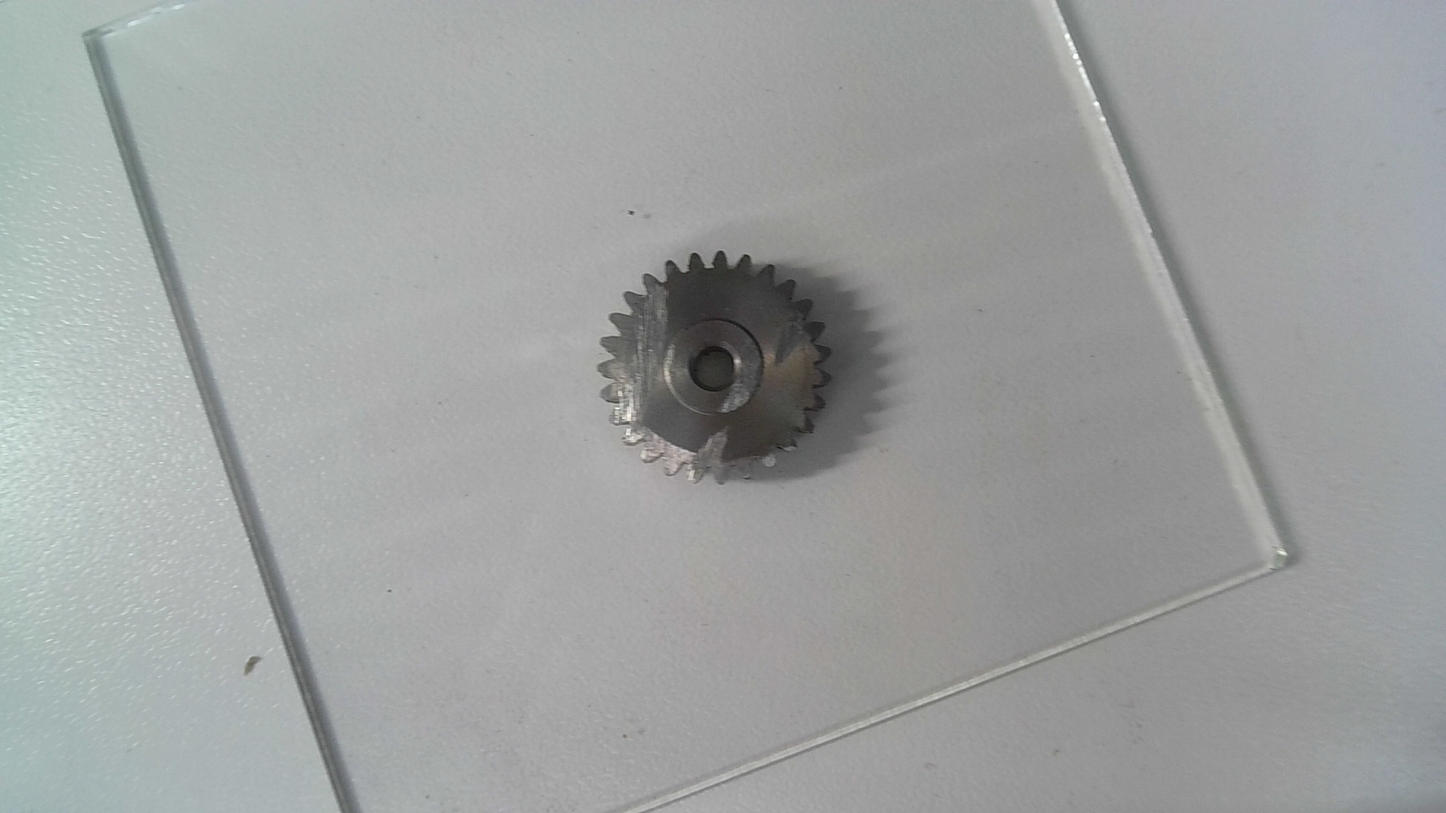gear: (594, 249, 837, 489)
